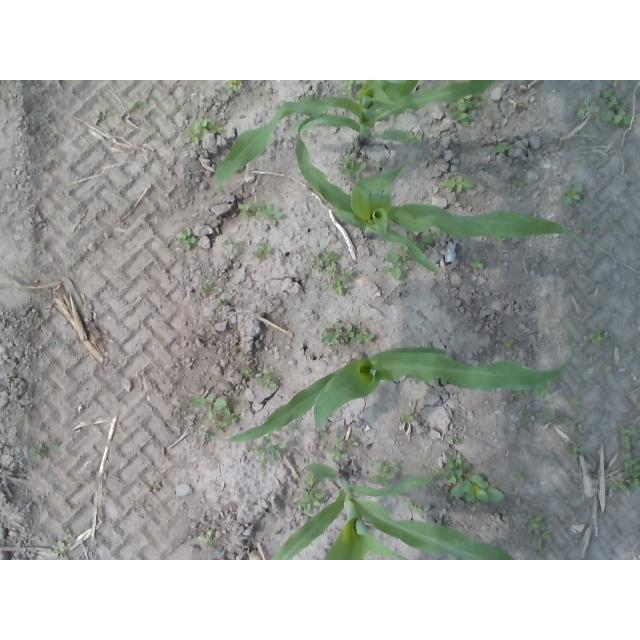Maize: (294, 116, 590, 276), (212, 330, 576, 443), (214, 80, 495, 193), (275, 462, 516, 560)
Weeds: (190, 384, 239, 433), (448, 474, 504, 502), (618, 425, 640, 492), (599, 88, 633, 129), (448, 93, 488, 127), (247, 435, 285, 469), (238, 200, 284, 228), (295, 474, 326, 514), (322, 323, 375, 346), (437, 450, 471, 483), (525, 514, 552, 555), (183, 117, 222, 144), (382, 251, 412, 281), (327, 435, 358, 464), (306, 246, 340, 272), (369, 461, 400, 488), (401, 230, 440, 251), (327, 267, 354, 297), (339, 153, 365, 180), (443, 175, 475, 194), (27, 441, 60, 459), (562, 182, 584, 207), (176, 227, 198, 250), (57, 529, 74, 556), (256, 370, 281, 388), (576, 96, 597, 117), (195, 530, 218, 549), (401, 129, 424, 147), (251, 243, 272, 262), (534, 378, 551, 398), (223, 238, 242, 255), (92, 109, 112, 125), (588, 330, 609, 345), (133, 92, 149, 109), (198, 280, 214, 296), (341, 81, 364, 92), (512, 388, 533, 400), (406, 499, 424, 513), (609, 478, 628, 491), (494, 142, 514, 154), (569, 443, 584, 457), (554, 413, 570, 426), (501, 335, 515, 349), (542, 407, 556, 420), (225, 80, 243, 90), (240, 363, 252, 378), (469, 258, 484, 269), (401, 413, 416, 424), (514, 470, 527, 482), (198, 430, 211, 441), (216, 297, 229, 308), (584, 223, 596, 233), (232, 346, 244, 356), (570, 395, 581, 405), (521, 411, 533, 419), (601, 364, 611, 373), (451, 437, 461, 444), (519, 181, 526, 188)
